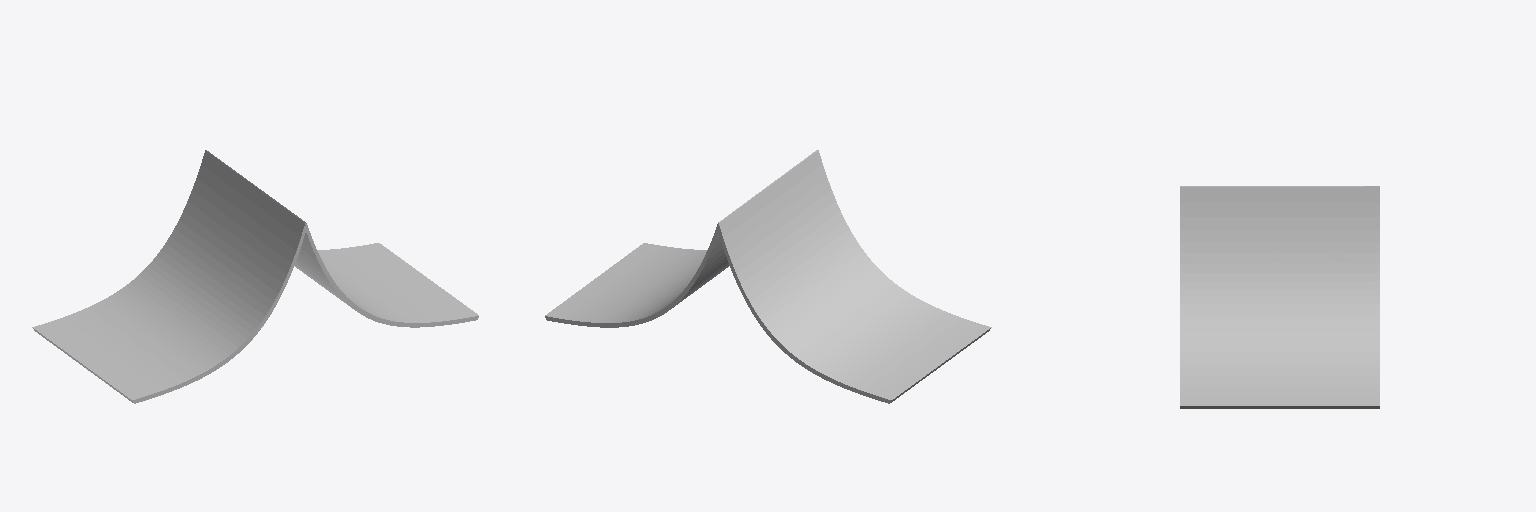
The model's file is writings.obj.
3 views of the same model, side by side, from view 1: azimuth 30°, elevation 25°; view 2: azimuth 150°, elevation 25°; view 3: azimuth 270°, elevation 25° (orthographic).
Parts seen in each view (by area): view 1: Z_Function, Z_Function.001; view 2: Z_Function, Z_Function.001; view 3: Z_Function.001.
Part boxes in pixels (left/top/right/bottom): Z_Function: left=32, top=150, right=305, bottom=403; Z_Function.001: left=206, top=150, right=478, bottom=327; Z_Function: left=717, top=150, right=991, bottom=403; Z_Function.001: left=545, top=150, right=817, bottom=327; Z_Function.001: left=1180, top=186, right=1379, bottom=408.
Size of the model in its own units: 20.08 by 7.69 by 10.03.